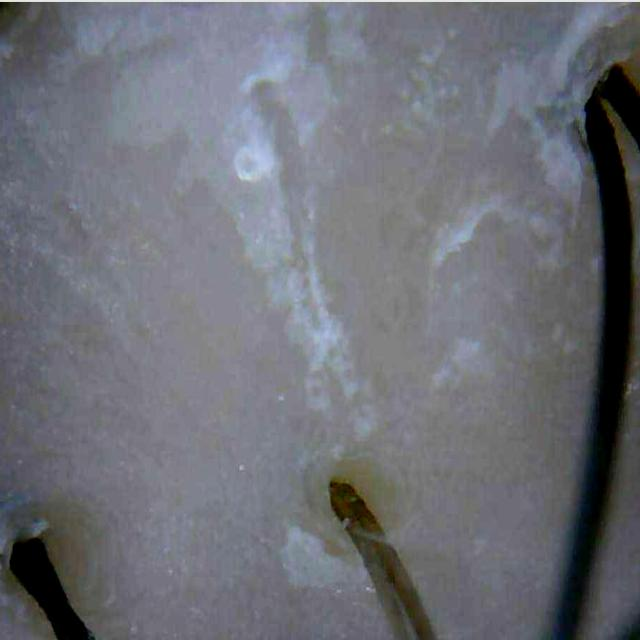d: (530, 3, 629, 107), (280, 524, 365, 590), (432, 194, 502, 266), (310, 312, 359, 396), (241, 52, 300, 91), (234, 137, 275, 181)
